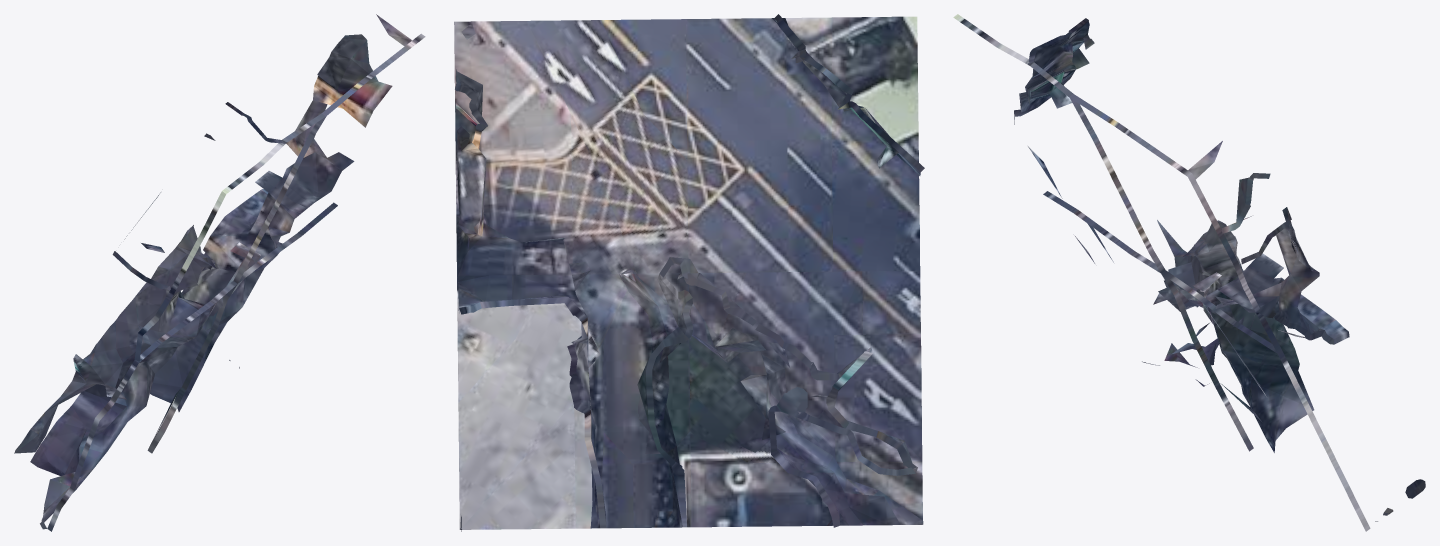
3 views of the same model, side by side, from view 1: azimuth 30°, elevation 25°; view 2: azimuth 150°, elevation 25°; view 3: azimuth 270°, elevation 25° (orthographic). The views are drawn at different scales.
Bounding box in the file's own units: 39.55 × 37.3 × 36.74.
Materials: 1 (1 with a texture image).
